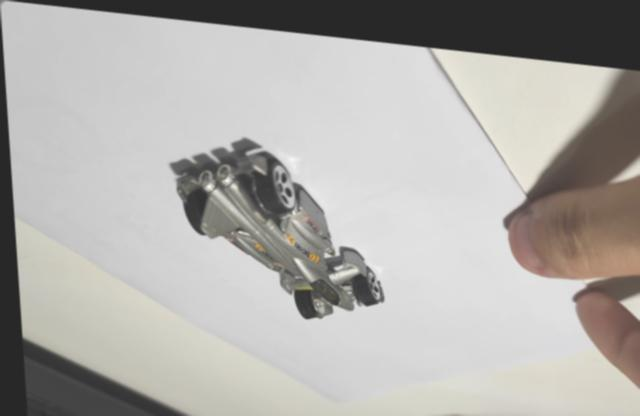05_DC121: (166, 132, 381, 312)
